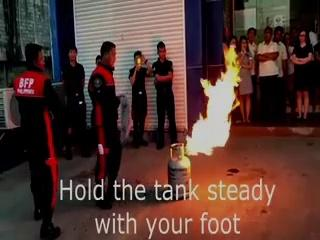Fire: (183, 37, 244, 157)
